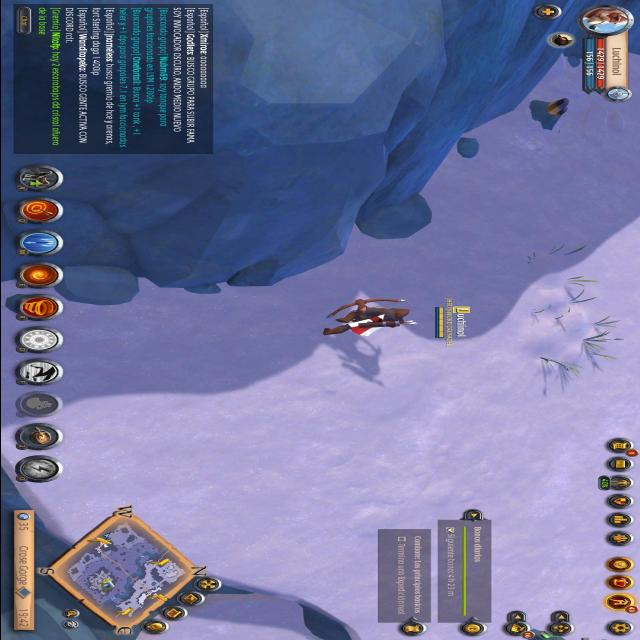piedra_cobre: (530, 94, 578, 136)
